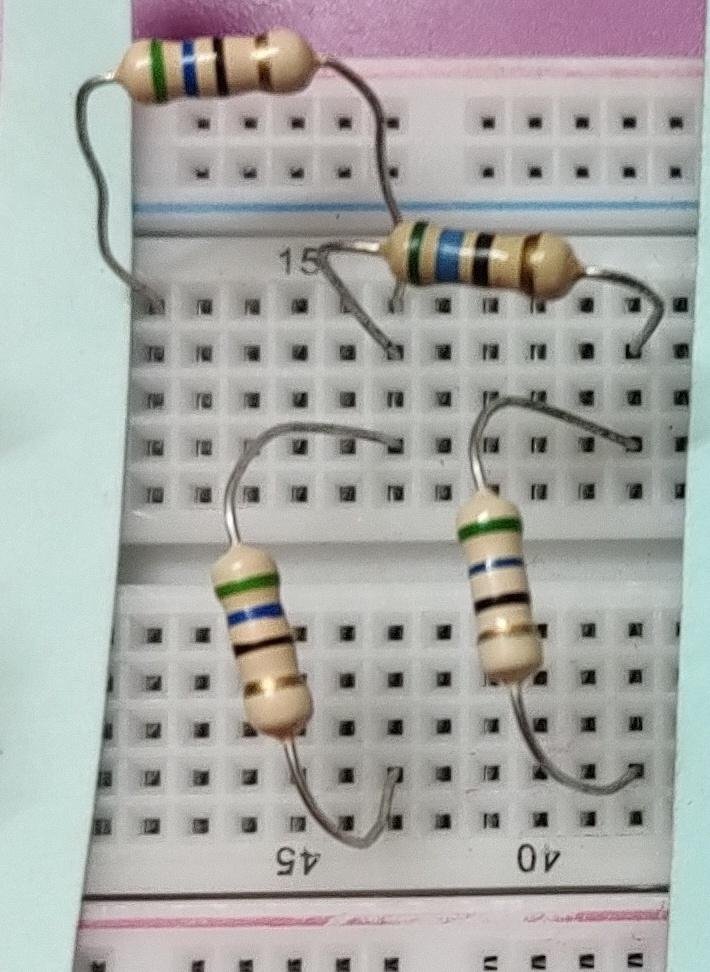resistor: (187, 523, 331, 755), (445, 479, 561, 699), (375, 203, 595, 309), (99, 26, 338, 107)
